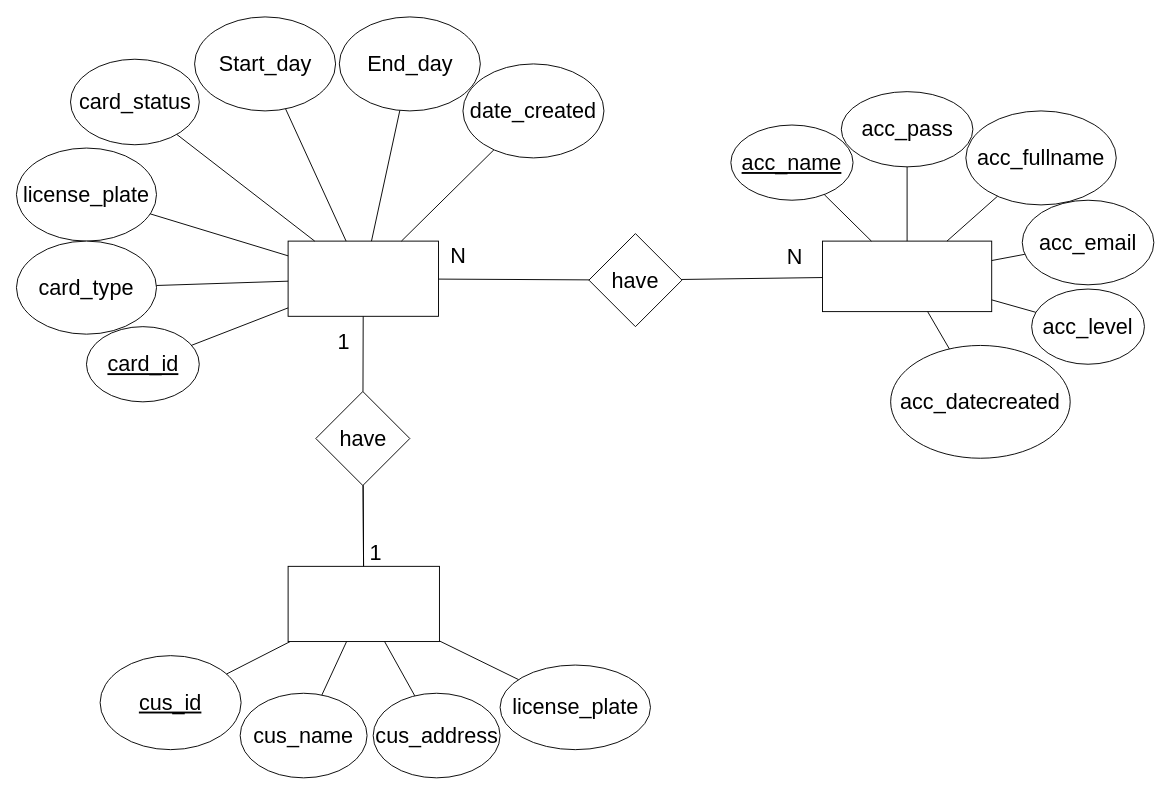
The diagram is 1170 pixels wide and 794 high, and some of its shapes have lost their labels. Each missing label, with the box of its shape:
Account: (822, 240, 992, 312)
Card: (287, 240, 439, 316)
Customer: (287, 565, 439, 642)
